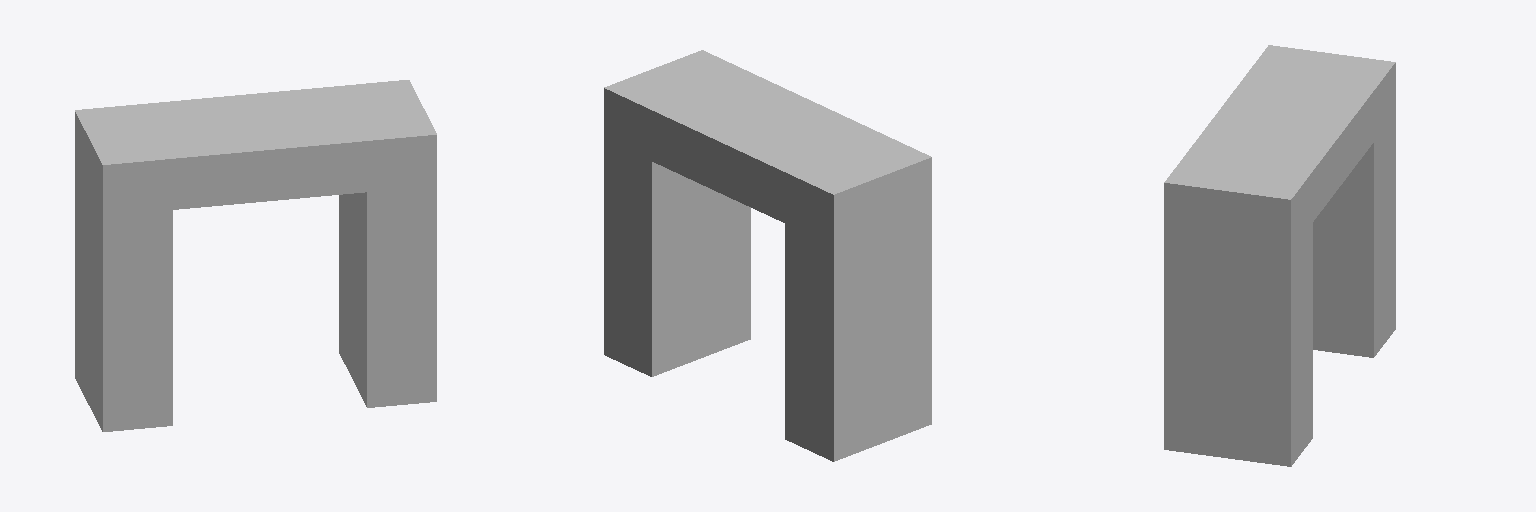
Rendered from kabel_orga.obj.
The picture shows the model from 3 angles: view 1: azimuth 30°, elevation 25°; view 2: azimuth 150°, elevation 25°; view 3: azimuth 270°, elevation 25°; orthographic projection.
Parts seen in each view (by area): view 1: Cube_Cube.002; view 2: Cube_Cube.002; view 3: Cube_Cube.002.
Part boxes in pixels (x1,y1,x2,y2): Cube_Cube.002: (75, 80, 436, 431); Cube_Cube.002: (604, 50, 931, 461); Cube_Cube.002: (1164, 45, 1395, 466).
Bounding box in the file's own units: 0.0061 × 0.0049 × 0.0039.